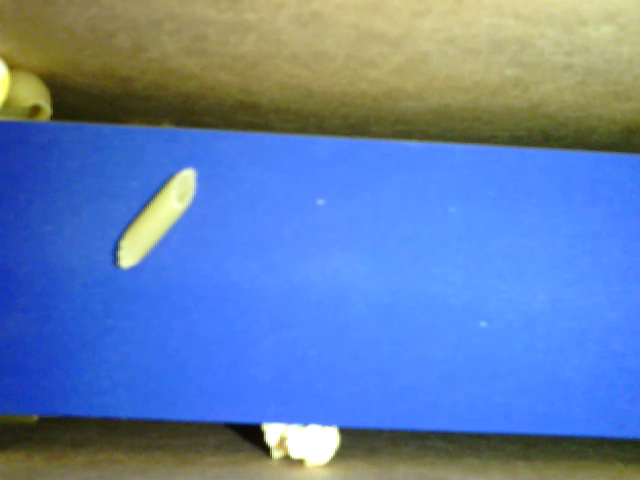penne: (116, 164, 200, 274)
shell: (1, 67, 58, 125)
